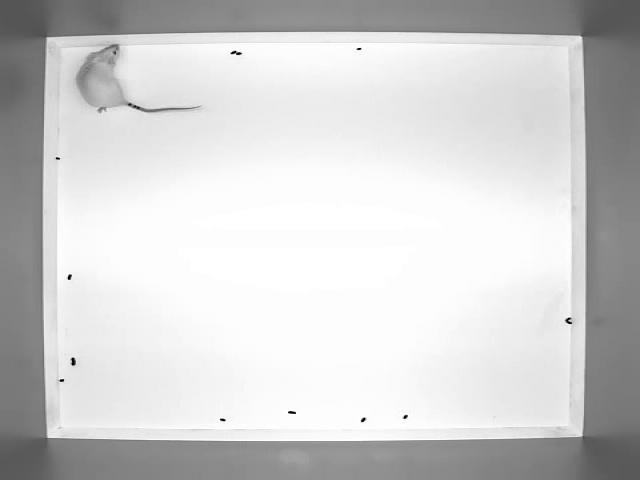Tikus: (75, 42, 203, 113)
